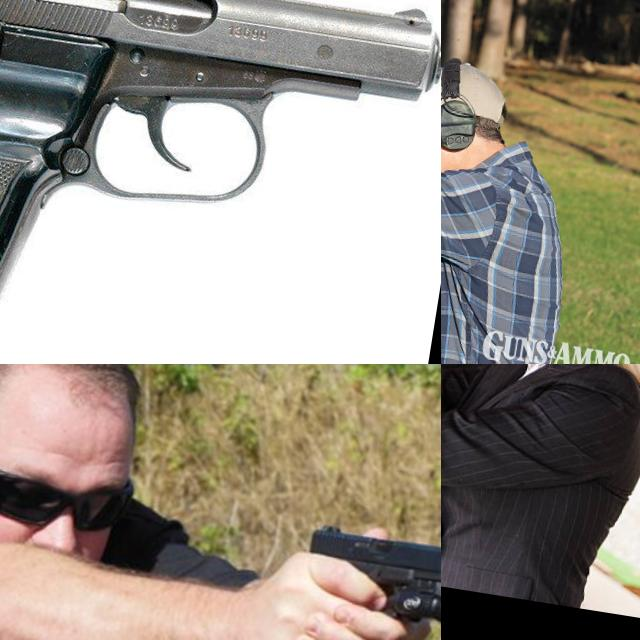handgun: (0, 0, 441, 364), (295, 516, 441, 640), (441, 81, 502, 144), (441, 364, 496, 396), (441, 364, 485, 390)
